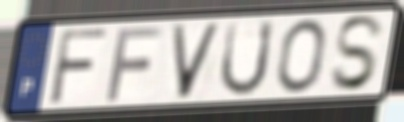F: (46, 27, 111, 108), (103, 24, 166, 104)
O: (275, 17, 328, 95)
S: (328, 13, 387, 94)
U: (217, 17, 278, 99)
V: (168, 21, 225, 102)
